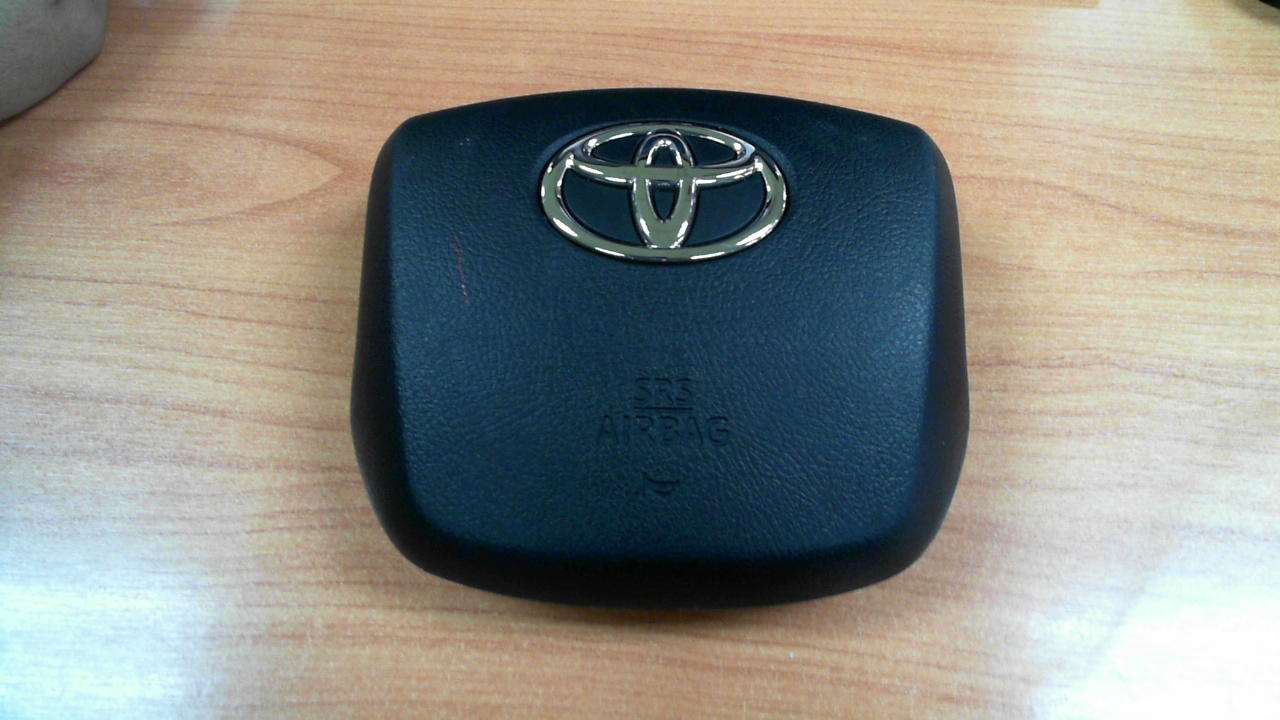Airbag: (351, 87, 972, 610)
Toyota: (540, 122, 788, 260)
